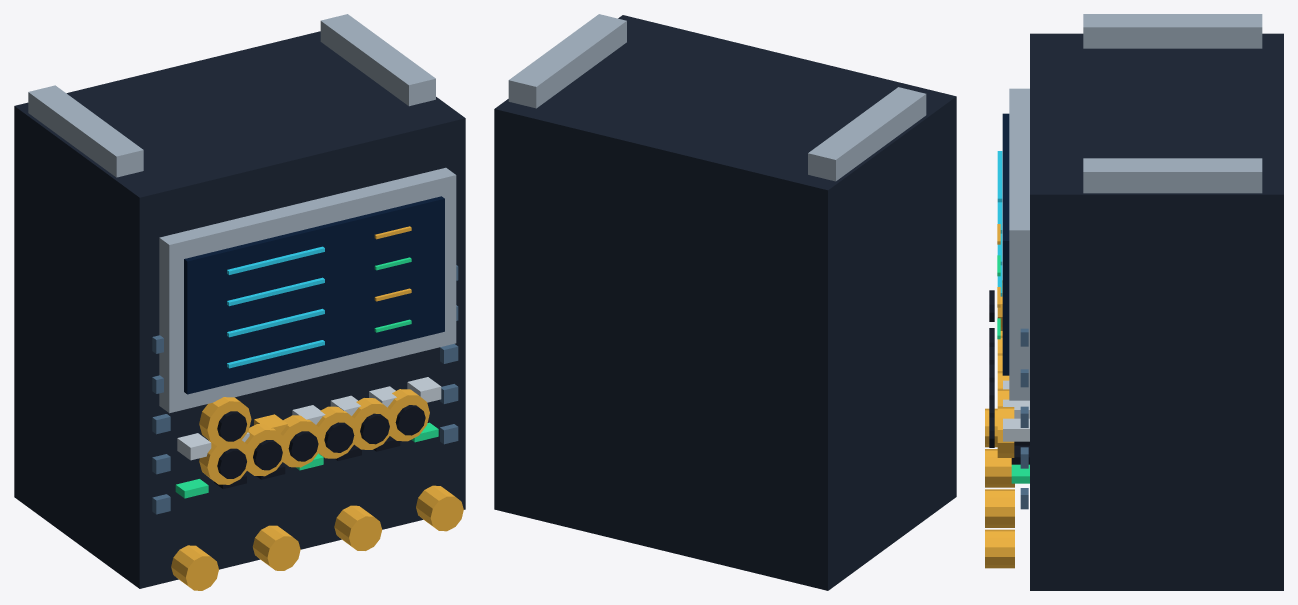
Rendered from 65_L85_PrecisionDockingCameraMonitor.fbx.
The picture shows the model from 3 angles, left to right: view 1: azimuth 30°, elevation 25°; view 2: azimuth 150°, elevation 25°; view 3: azimuth 270°, elevation 25°; orthographic projection. The views are drawn at different scales.
Parts seen in each view (by area): view 1: L85_PrecisionDockingCameraMonitor, L85_PrecisionDockingCameraMonitor_Part_0022, L85_PrecisionDockingCameraMonitor_Part_0010, L85_PrecisionDockingCameraMonitor_Part_0020, L85_PrecisionDockingCameraMonitor_Part_0016, L85_PrecisionDockingCameraMonitor_Part_0014, L85_PrecisionDockingCameraMonitor_Part_0012, L85_PrecisionDockingCameraMonitor_Part_0018, L85_PrecisionDockingCameraMonitor_Part_0015, L85_PrecisionDockingCameraMonitor_Part_0017, L85_PrecisionDockingCameraMonitor_Part_0021, L85_PrecisionDockingCameraMonitor_Part_0023 (+3 smaller); view 2: L85_PrecisionDockingCameraMonitor; view 3: L85_PrecisionDockingCameraMonitor, L85_PrecisionDockingCameraMonitor_Part_0020.
Part boxes in pixels (x1,y1,x2,y2): L85_PrecisionDockingCameraMonitor: [14, 14, 465, 590]; L85_PrecisionDockingCameraMonitor_Part_0022: [199, 397, 251, 447]; L85_PrecisionDockingCameraMonitor_Part_0010: [199, 439, 251, 484]; L85_PrecisionDockingCameraMonitor_Part_0020: [387, 389, 429, 441]; L85_PrecisionDockingCameraMonitor_Part_0016: [316, 406, 358, 458]; L85_PrecisionDockingCameraMonitor_Part_0014: [280, 415, 322, 467]; L85_PrecisionDockingCameraMonitor_Part_0012: [245, 424, 286, 476]; L85_PrecisionDockingCameraMonitor_Part_0018: [352, 398, 393, 449]; L85_PrecisionDockingCameraMonitor_Part_0015: [288, 431, 318, 461]; L85_PrecisionDockingCameraMonitor_Part_0017: [324, 422, 354, 452]; L85_PrecisionDockingCameraMonitor_Part_0021: [395, 405, 425, 435]; L85_PrecisionDockingCameraMonitor_Part_0023: [217, 411, 246, 441]; L85_PrecisionDockingCameraMonitor: [494, 14, 956, 590]; L85_PrecisionDockingCameraMonitor: [985, 14, 1283, 590]; L85_PrecisionDockingCameraMonitor_Part_0020: [997, 406, 1014, 457].
Bounding box in the file's own units: 95.88 × 116 × 75.2.
